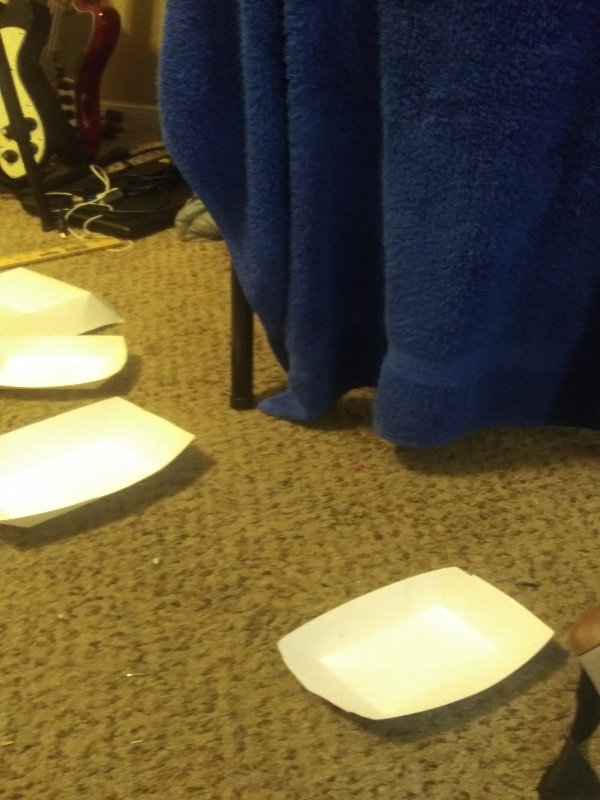plate: (268, 563, 563, 730), (1, 392, 205, 545), (1, 259, 132, 335), (1, 330, 136, 402)
